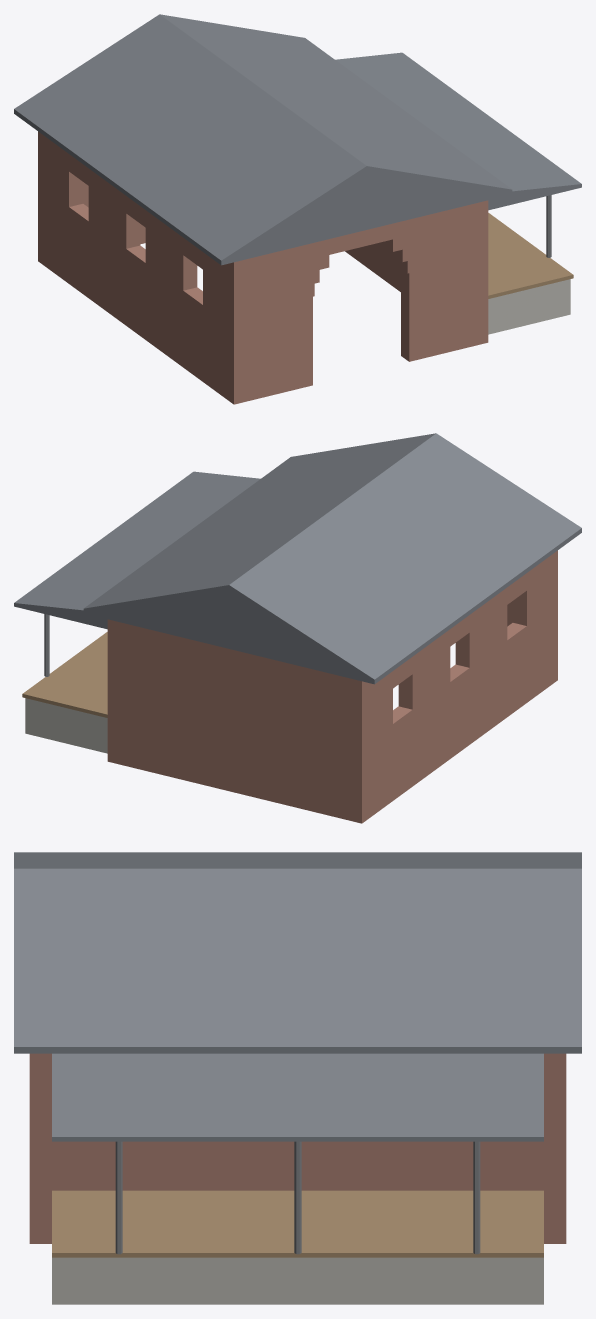
File: steam-era-railway-and-rolling-stock-goods-shed-debb22ca.glb
The picture shows the model from 3 angles, top to bottom: view 1: azimuth 30°, elevation 25°; view 2: azimuth 150°, elevation 25°; view 3: azimuth 270°, elevation 25°; orthographic projection. The views are drawn at different scales.
Visible parts, largest first — view 1: goods-shed; view 2: goods-shed; view 3: goods-shed.
Part boxes in pixels (bbox=[...]): goods-shed: bbox=[14, 14, 581, 404]; goods-shed: bbox=[14, 433, 581, 823]; goods-shed: bbox=[14, 852, 581, 1304].
Size of the model in its own units: 13.25 by 7.16 by 12.7.
